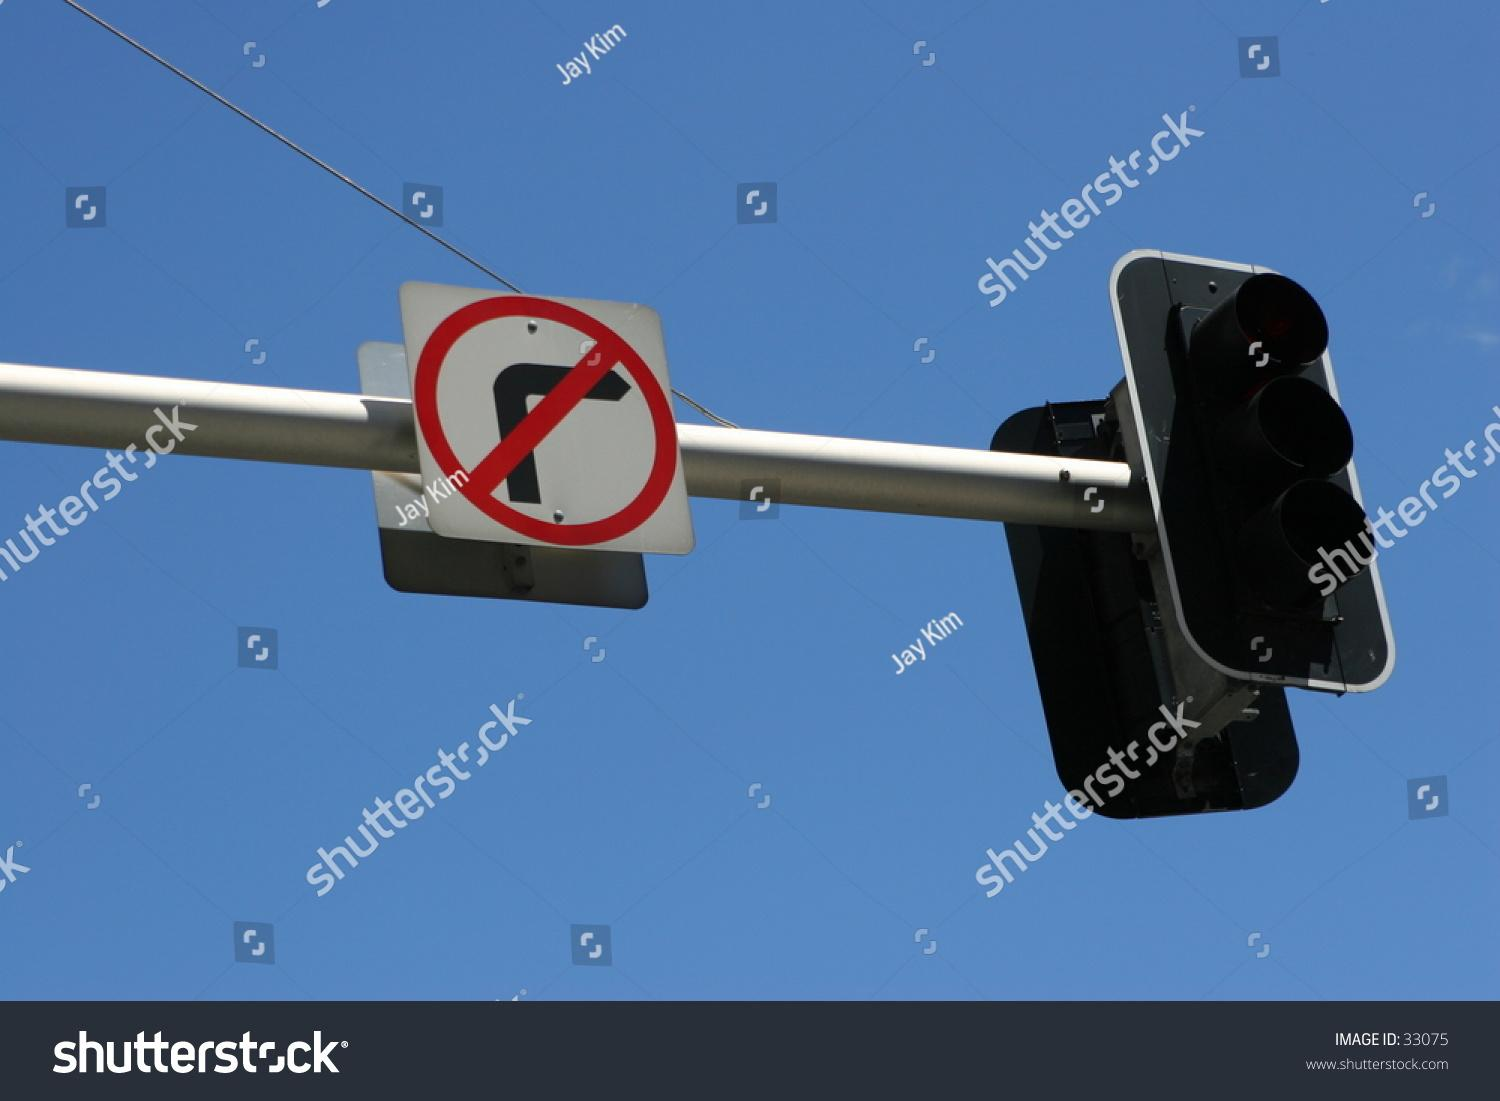no_right_turn: (411, 294, 679, 542)
